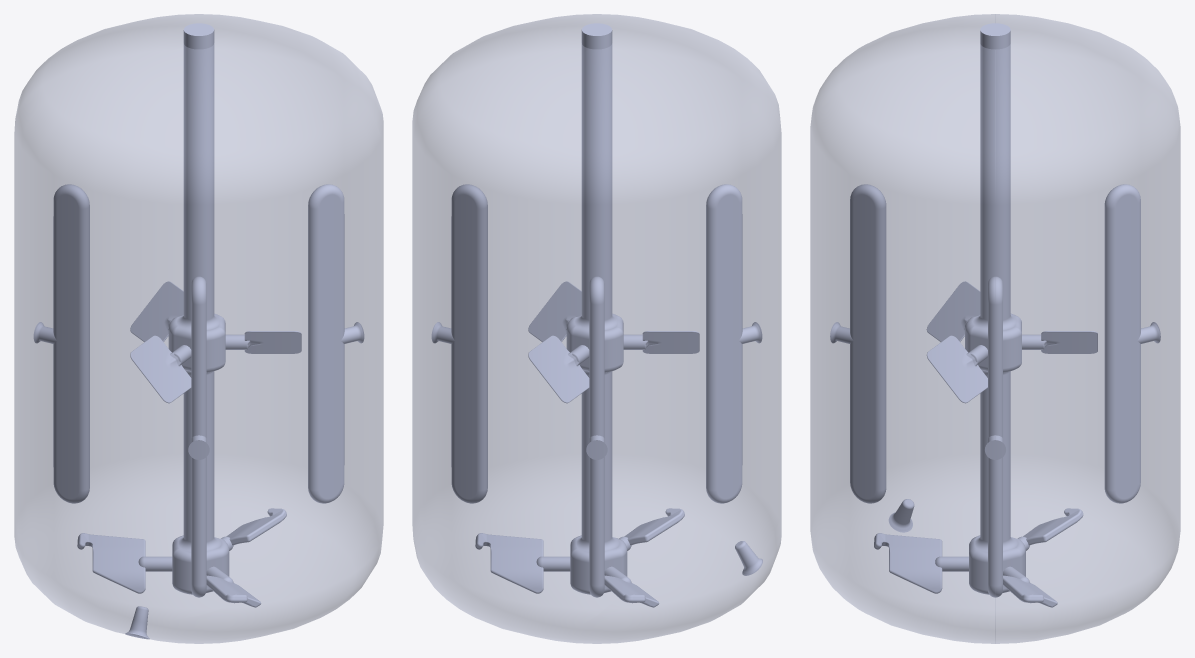
3 renders of one model, left to right at view 1: azimuth 30°, elevation 25°; view 2: azimuth 150°, elevation 25°; view 3: azimuth 270°, elevation 25°, orthographic.
Visible parts, largest first — view 1: R-401_Tank, R-401_Impeller, R-401_Baffles.sldasm-Part-001, R-401_Baffles.sldasm-Part-1, R-401_Baffles.sldasm-Part-002; view 2: R-401_Tank, R-401_Impeller, R-401_Baffles.sldasm-Part-1, R-401_Baffles.sldasm-Part-002, R-401_Baffles.sldasm-Part-001, R-401_ThermalSensor; view 3: R-401_Tank, R-401_Impeller, R-401_Baffles.sldasm-Part-001, R-401_Baffles.sldasm-Part-002, R-401_Baffles.sldasm-Part-1, R-401_ThermalSensor.
Part boxes in pixels (x1=…): R-401_Tank: x1=14, y1=14, x2=383, y2=643; R-401_Impeller: x1=77, y1=23, x2=301, y2=607; R-401_Baffles.sldasm-Part-001: x1=33, y1=184, x2=89, y2=503; R-401_Baffles.sldasm-Part-1: x1=308, y1=184, x2=364, y2=503; R-401_Baffles.sldasm-Part-002: x1=188, y1=276, x2=209, y2=597; R-401_Tank: x1=412, y1=14, x2=781, y2=643; R-401_Impeller: x1=475, y1=23, x2=699, y2=607; R-401_Baffles.sldasm-Part-1: x1=431, y1=184, x2=487, y2=503; R-401_Baffles.sldasm-Part-002: x1=706, y1=184, x2=762, y2=503; R-401_Baffles.sldasm-Part-001: x1=586, y1=276, x2=607, y2=597; R-401_ThermalSensor: x1=735, y1=541, x2=762, y2=575; R-401_Tank: x1=810, y1=14, x2=1180, y2=643; R-401_Impeller: x1=874, y1=23, x2=1097, y2=607; R-401_Baffles.sldasm-Part-001: x1=1104, y1=184, x2=1160, y2=503; R-401_Baffles.sldasm-Part-002: x1=830, y1=184, x2=886, y2=503; R-401_Baffles.sldasm-Part-1: x1=985, y1=276, x2=1005, y2=597; R-401_ThermalSensor: x1=888, y1=499, x2=914, y2=532.
Bounding box in the file's own units: 1.22 × 2.13 × 1.22.
